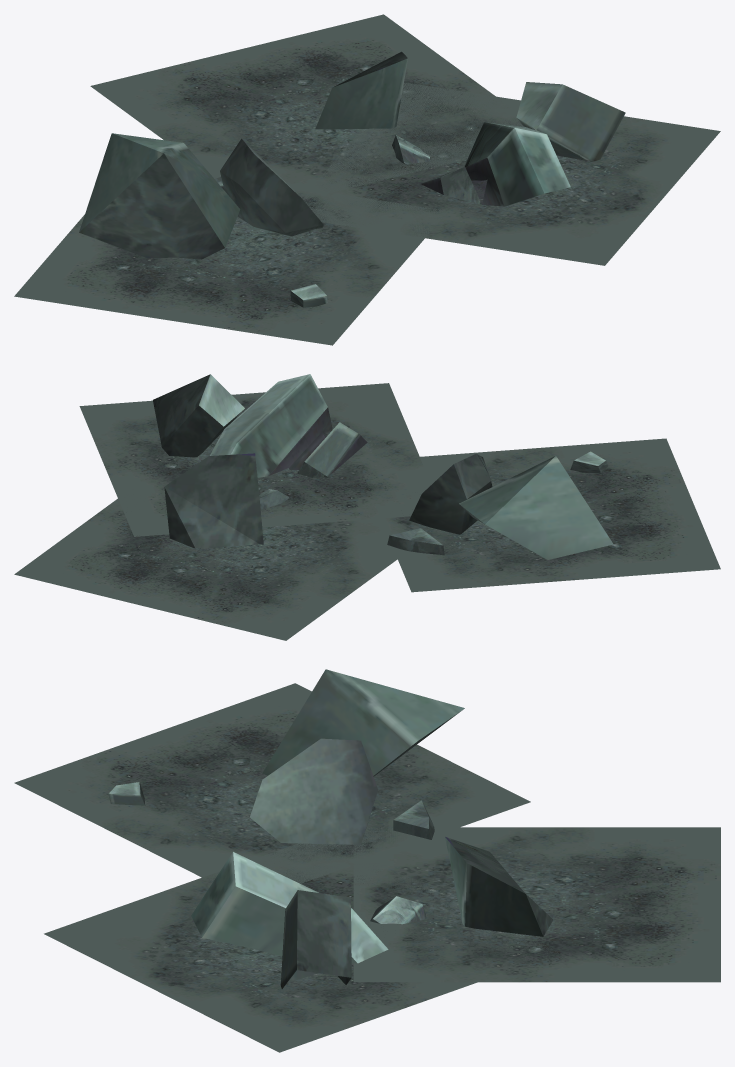
The model's file is crypt_rubble_03.fbx.
3 renders of one model, top to bottom at view 1: azimuth 30°, elevation 25°; view 2: azimuth 150°, elevation 25°; view 3: azimuth 270°, elevation 25°, orthographic. The views are drawn at different scales.
Parts seen in each view (by area): view 1: crypt_rubble_03-0; view 2: crypt_rubble_03-0; view 3: crypt_rubble_03-0.
Part boxes in pixels (x1=…): crypt_rubble_03-0: x1=14, y1=14, x2=720, y2=345; crypt_rubble_03-0: x1=14, y1=374, x2=720, y2=640; crypt_rubble_03-0: x1=14, y1=669, x2=720, y2=1052.
Size of the model in its own units: 9.53 by 1.54 by 7.7.
